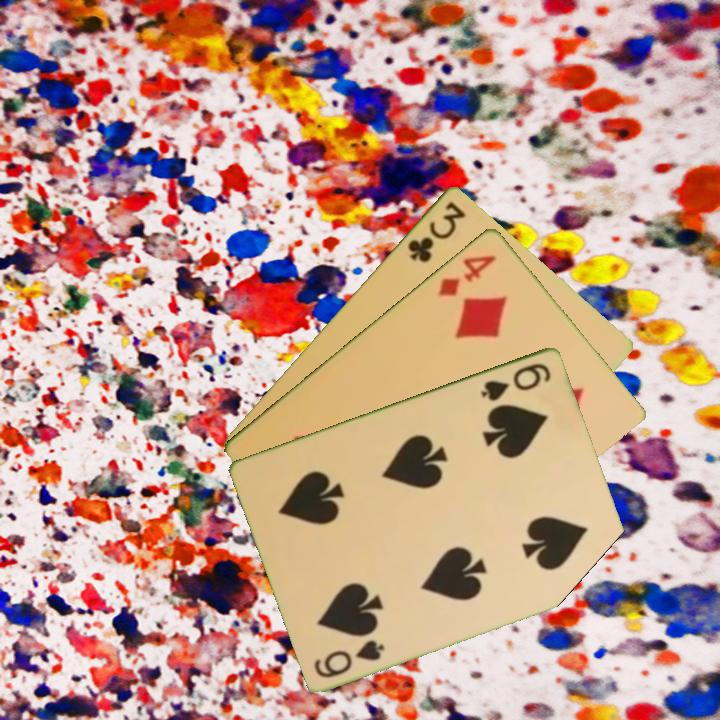3c: (403, 197, 469, 265)
4d: (434, 250, 500, 299)
6s: (477, 359, 554, 404), (310, 636, 388, 680)
